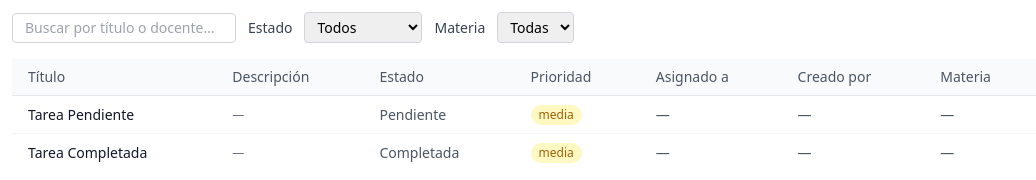
Test case: TablaTareas › filters tareas by estado when filter is applied
The width and height of the screenshot is (1036, 180).
Expected: the text "Tarea Pendiente" is shown, [12, 96, 216, 134]
# Select filter "completada"
Select "Completada" in the dropdown labelled "Estado": (364, 28) [304, 12, 422, 43]
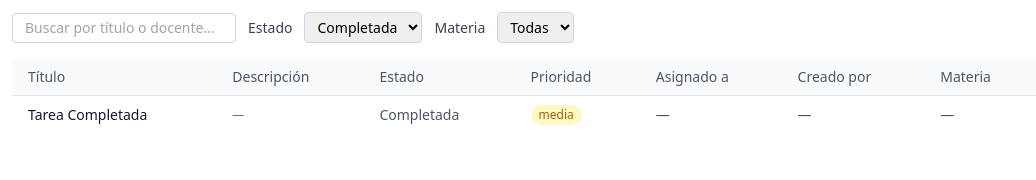
Expected: the text "Tarea Completada" is shown, [12, 96, 216, 133]
Expected: the text "Tarea Pendiente" is gone
